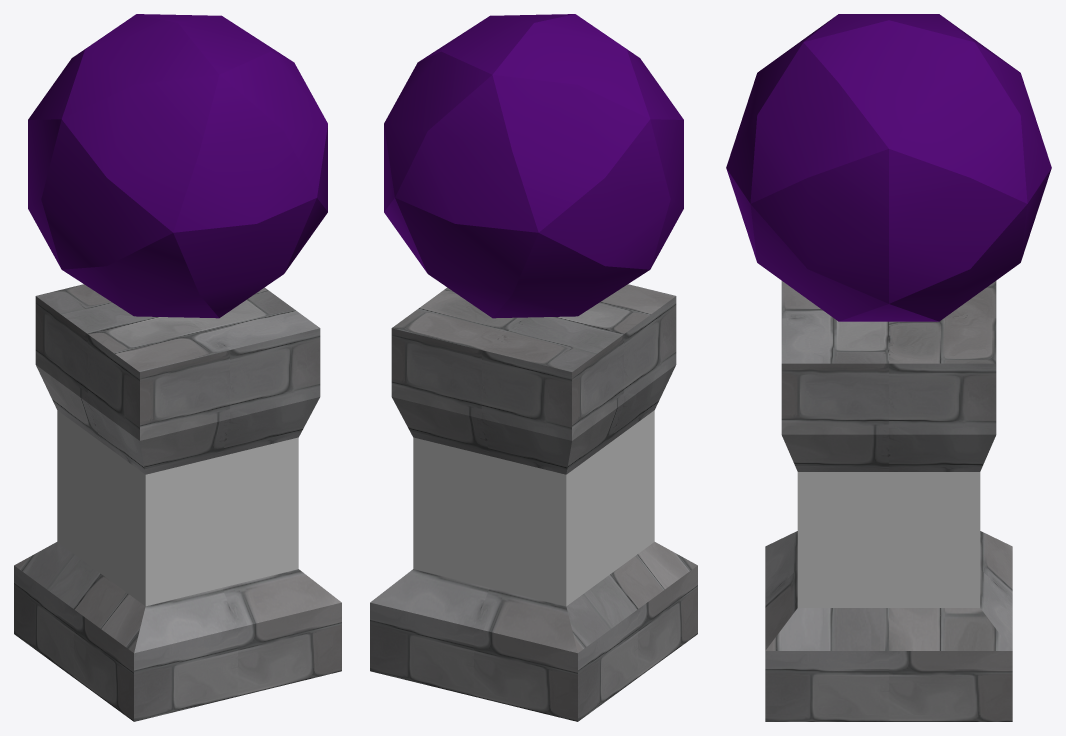
The model's file is Turret.fbx.
The picture shows the model from 3 angles, left to right: view 1: azimuth 30°, elevation 25°; view 2: azimuth 150°, elevation 25°; view 3: azimuth 270°, elevation 25°; orthographic projection. The views are drawn at different scales.
Visible parts, largest first — view 1: column_short, icosphere; view 2: column_short, icosphere; view 3: column_short, icosphere.
Part boxes in pixels (x1,y1,x2,y2): column_short: (14,284,341,721); icosphere: (28,14,327,318); column_short: (370,284,697,721); icosphere: (384,14,683,318); column_short: (765,281,1012,721); icosphere: (726,14,1051,321).
Size of the model in its own units: 5 by 11 by 5.
